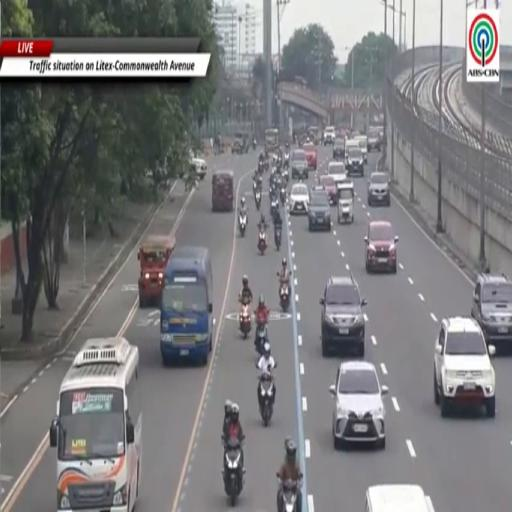bus: (50, 338, 141, 511), (160, 247, 213, 365)
car: (434, 317, 495, 418), (330, 361, 388, 450), (320, 274, 366, 357), (472, 274, 511, 348), (365, 485, 434, 511), (364, 221, 398, 273), (309, 190, 331, 231), (367, 172, 390, 206), (289, 184, 309, 214), (345, 148, 364, 177), (290, 150, 308, 179), (319, 175, 336, 204), (327, 162, 347, 186), (303, 143, 317, 170), (367, 127, 382, 152), (191, 157, 207, 180), (355, 136, 368, 164), (333, 138, 345, 159), (324, 126, 335, 146), (311, 184, 325, 194)
jeepney: (137, 235, 176, 308), (337, 180, 354, 224), (265, 128, 279, 154), (232, 133, 246, 154)
motorcycle: (222, 439, 244, 506), (259, 373, 273, 426), (282, 479, 297, 511), (239, 300, 251, 339), (255, 324, 267, 357), (280, 283, 290, 312), (238, 212, 247, 237), (258, 230, 266, 254), (274, 224, 281, 250), (271, 199, 278, 218), (255, 189, 261, 211), (282, 167, 288, 185), (280, 187, 286, 205), (283, 153, 289, 167), (253, 180, 258, 195), (252, 139, 257, 150)
